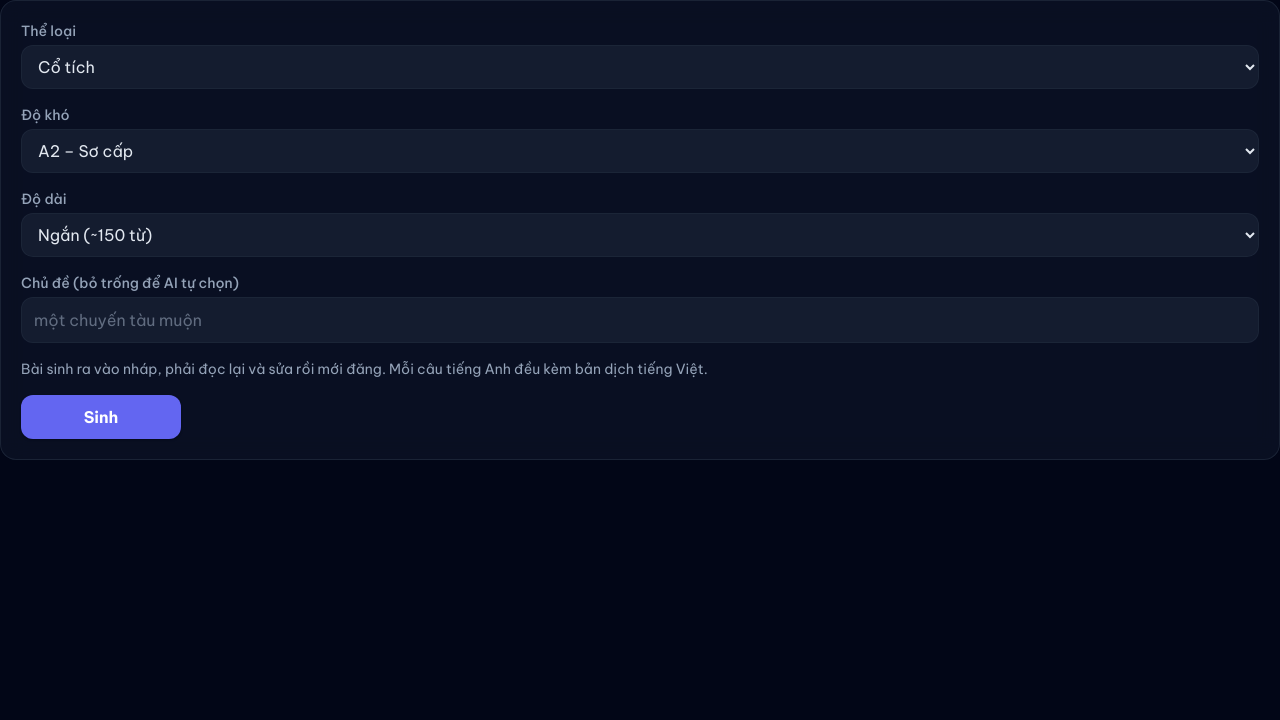
Test: ReadingGenerateForm › hiện thông báo thành công của action
Click the button "Sinh".
click(101, 417)  # box left=21, top=395, right=181, bottom=439
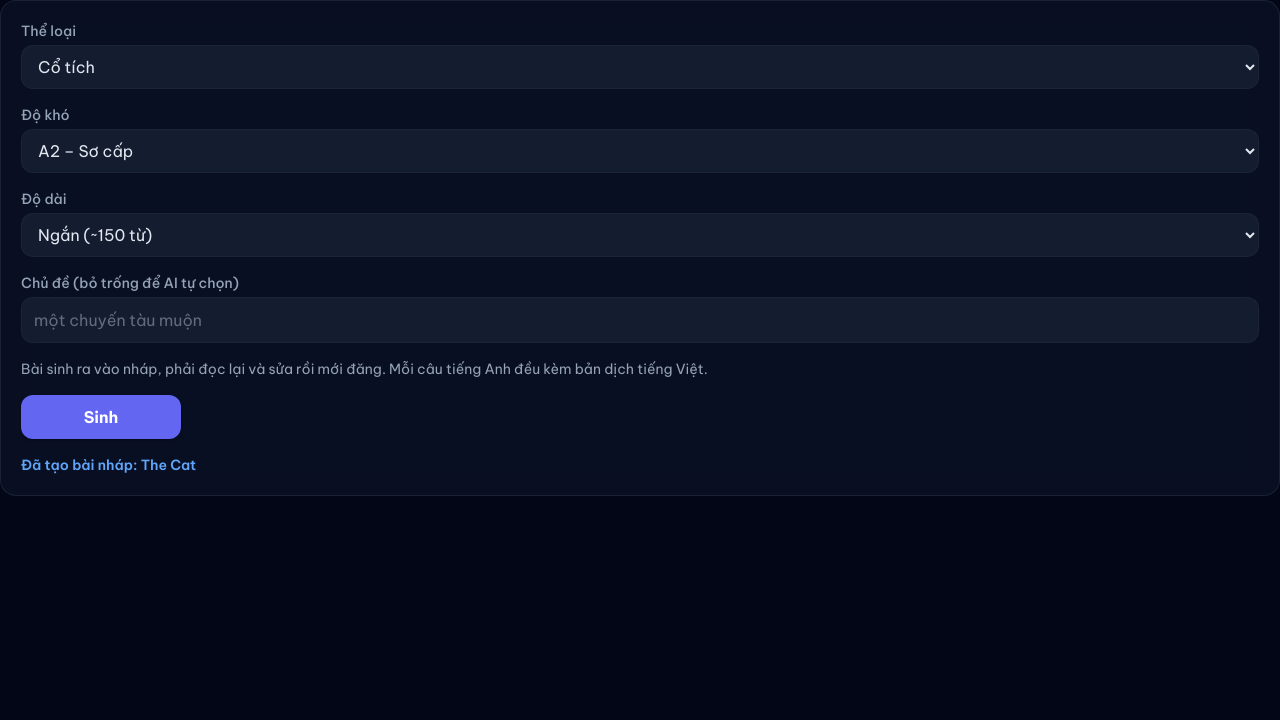
Check: the text "Đã tạo bài nháp: The Cat" is shown, box left=21, top=456, right=196, bottom=474
